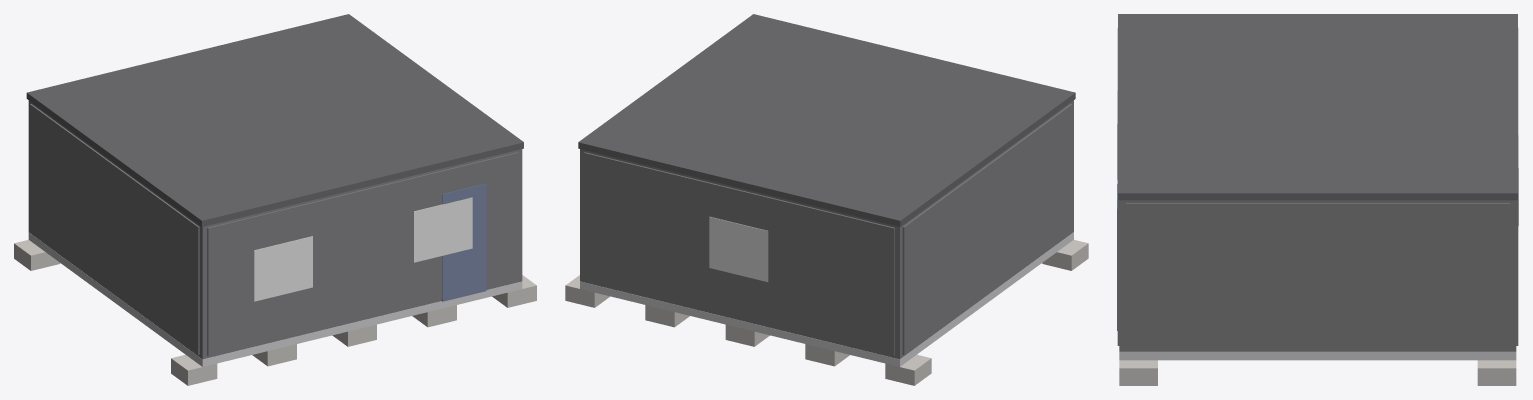
The model's file is Studio-20-Base-CharcoalSilver-LOD3.glb.
3 views of the same model, side by side, from view 1: azimuth 30°, elevation 25°; view 2: azimuth 150°, elevation 25°; view 3: azimuth 270°, elevation 25° (orthographic). The views are drawn at different scales.
Visible parts, largest first — view 1: RoofMain, ExteriorPanelsStandard, WindowsStandard, FoundationBlocks, ExteriorShell, BaseFrame, EntryDoor; view 2: ExteriorPanelsStandard, RoofMain, FoundationBlocks, BaseFrame, ExteriorShell, WindowsStandard; view 3: RoofMain, ExteriorPanelsStandard, ExteriorShell, BaseFrame, FoundationBlocks.
Boxes of the visible parts, x1,y1,x2,y2 form: RoofMain: (26,14,523,226); ExteriorPanelsStandard: (30,104,518,355); WindowsStandard: (254,197,472,301); FoundationBlocks: (14,240,536,385); ExteriorShell: (28,100,522,359); BaseFrame: (28,232,522,366); EntryDoor: (441,183,486,301); ExteriorPanelsStandard: (584,104,1072,355); RoofMain: (578,14,1075,226); FoundationBlocks: (565,240,1088,385); BaseFrame: (580,232,1073,366); ExteriorShell: (580,100,1073,359); WindowsStandard: (709,216,768,281); RoofMain: (1118,14,1517,200); ExteriorPanelsStandard: (1117,28,1518,349); ExteriorShell: (1119,200,1516,351); BaseFrame: (1119,351,1516,360); FoundationBlocks: (1119,360,1516,385).
Bounding box in the file's own units: 7.14 × 3.17 × 6.24.
